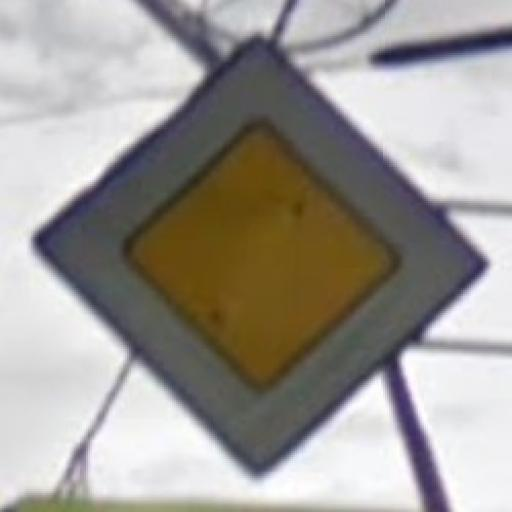traffic_sign: (32, 33, 493, 485)
